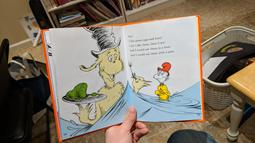text block: (124, 31, 177, 57)
